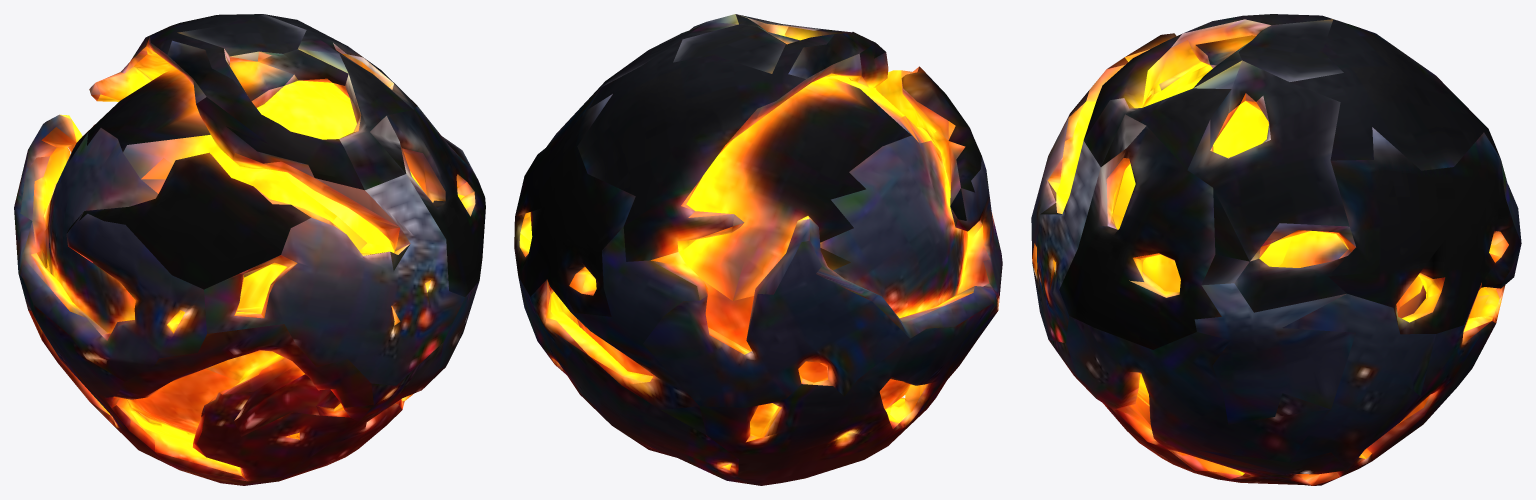
The model's file is meteorito3.glb.
The picture shows the model from 3 angles, left to right: view 1: azimuth 30°, elevation 25°; view 2: azimuth 150°, elevation 25°; view 3: azimuth 270°, elevation 25°; orthographic projection. The views are drawn at different scales.
Visible parts, largest first — view 1: Galaxy_Meteor3_Web; view 2: Galaxy_Meteor3_Web; view 3: Galaxy_Meteor3_Web.
Part boxes in pixels (x1=…): Galaxy_Meteor3_Web: x1=14, y1=14, x2=485, y2=485; Galaxy_Meteor3_Web: x1=514, y1=14, x2=1002, y2=485; Galaxy_Meteor3_Web: x1=1031, y1=14, x2=1521, y2=485.
Bounding box in the file's own units: 1.15 × 1.11 × 1.15.
Materials: 1 (1 with a texture image).
